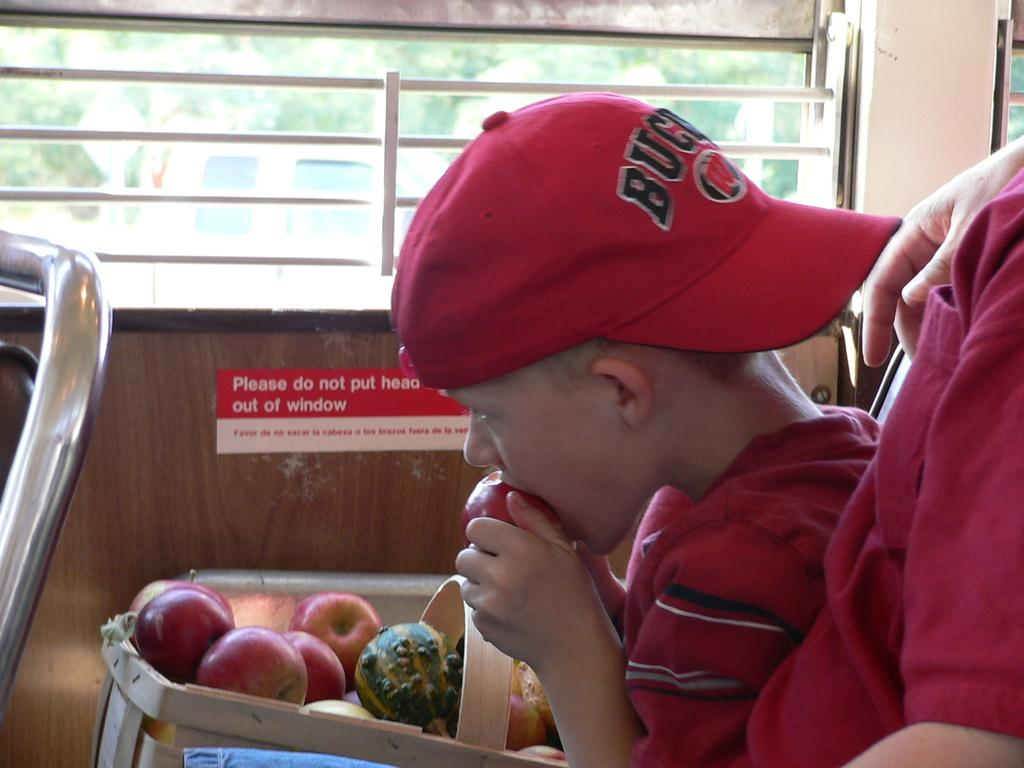Hat: (391, 89, 902, 392)
